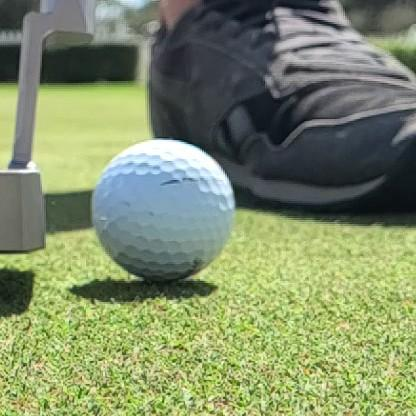golfball: (91, 139, 234, 282)
